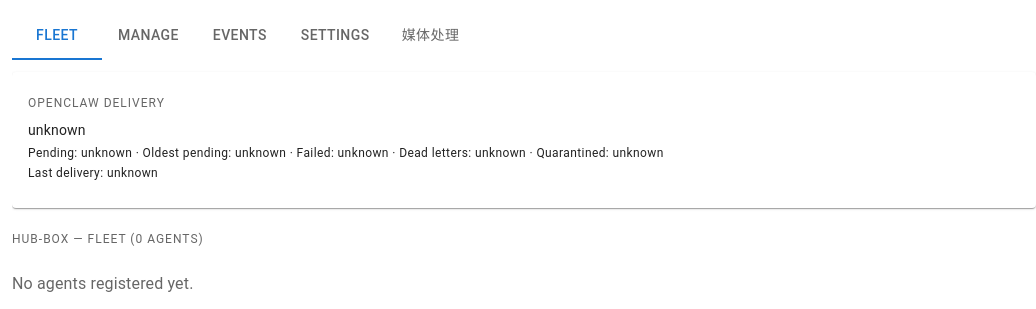
R14 Hub event request evidence › shows a safe first error and Retry rather than No events
The width and height of the screenshot is (1036, 309).
Expected: the text "hub-box — fleet (0 agents)" is shown, [12,232,204,246]
Click the tab "Events". click: (240, 36)
box: [195,12,285,60]
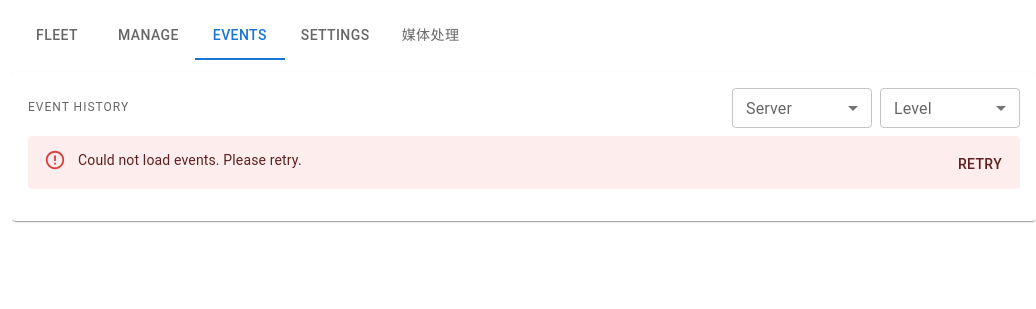
Expected: the message shows "Could not load events", [78,152,302,168]
Expected: the button "Retry" is shown, [948,146,1012,182]
